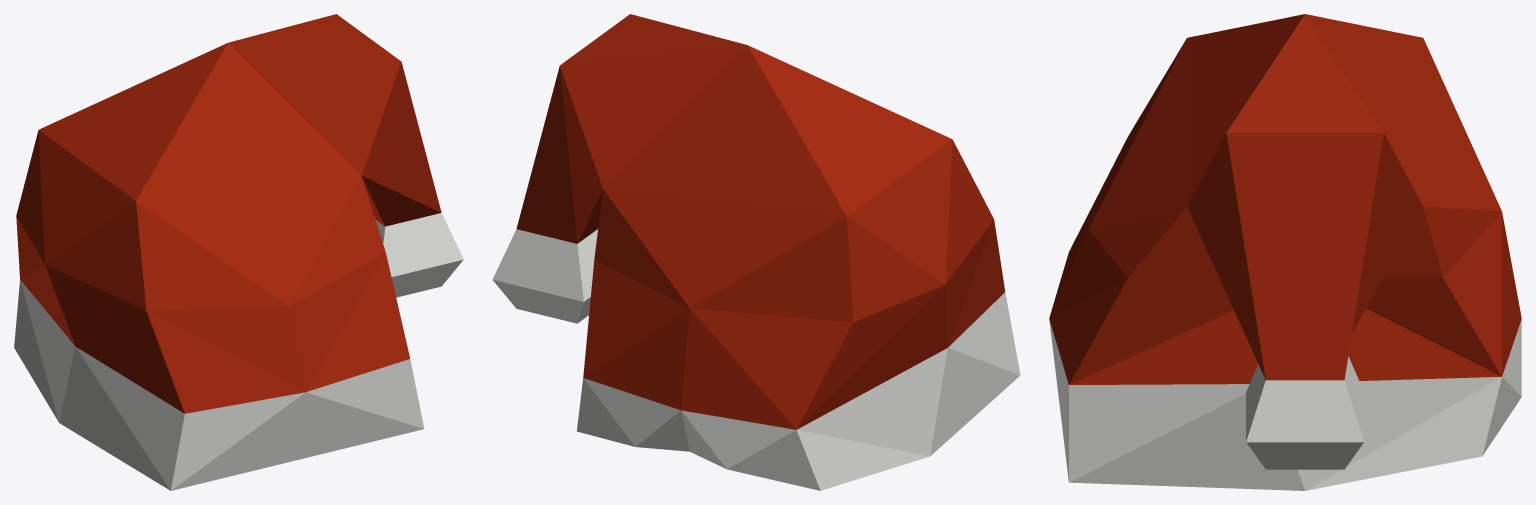
The model's file is inv_santa_hat.obj.
3 views of the same model, side by side, from view 1: azimuth 30°, elevation 25°; view 2: azimuth 150°, elevation 25°; view 3: azimuth 270°, elevation 25° (orthographic). The views are drawn at different scales.
Size of the model in its own units: 0.2188 by 0.1797 by 0.1875.
